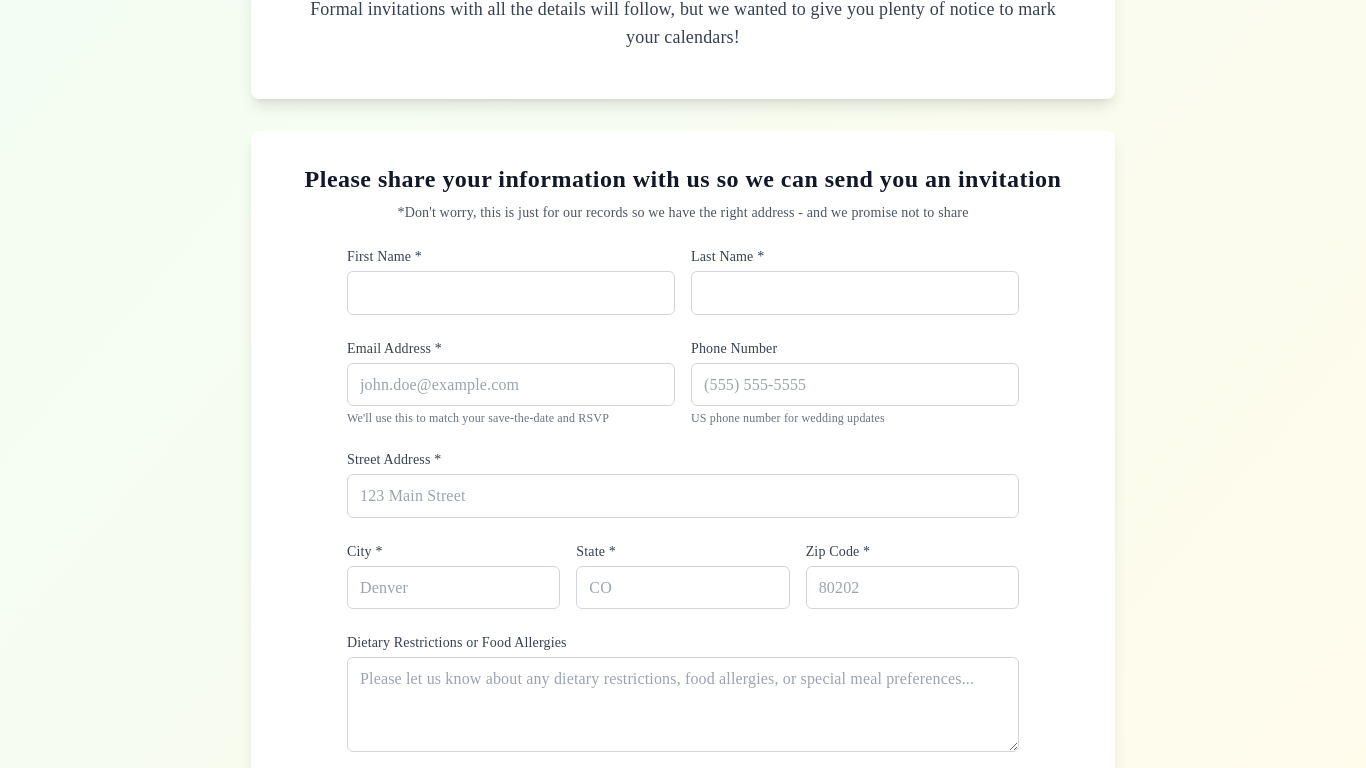
Test case: Save the Date Form Functionality › formats phone number correctly
The width and height of the screenshot is (1366, 768).
(page scrolled)
Type "5551234567" into the field labelled "Phone Number".
click(855, 384); type("5551234567")  # box 691,363 -> 1019,406
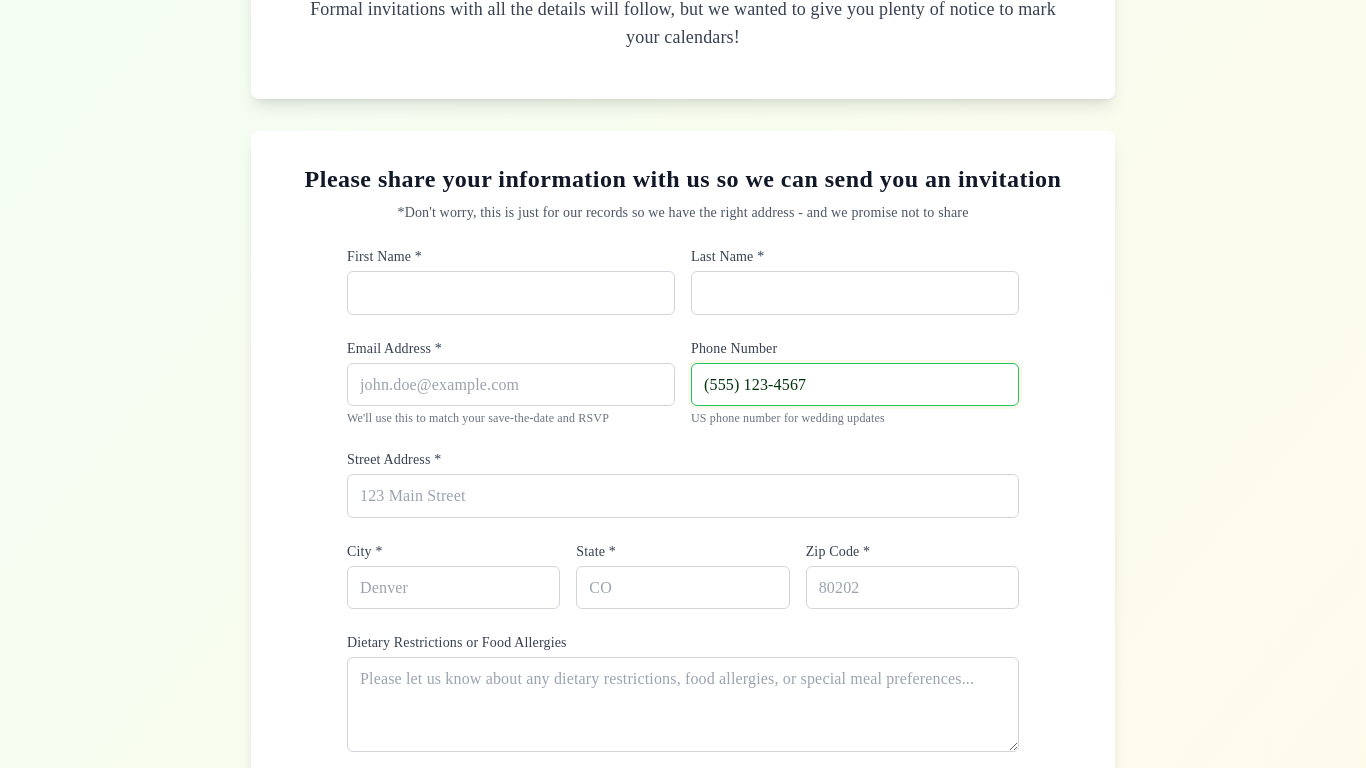
Now the field labelled "Phone Number" holds "(555) 123-4567", box 691,363 -> 1019,406
